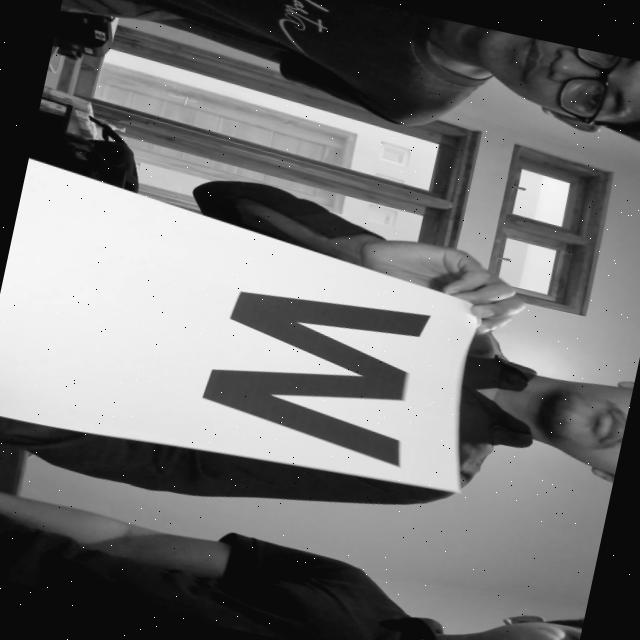w: (173, 255, 453, 485)
